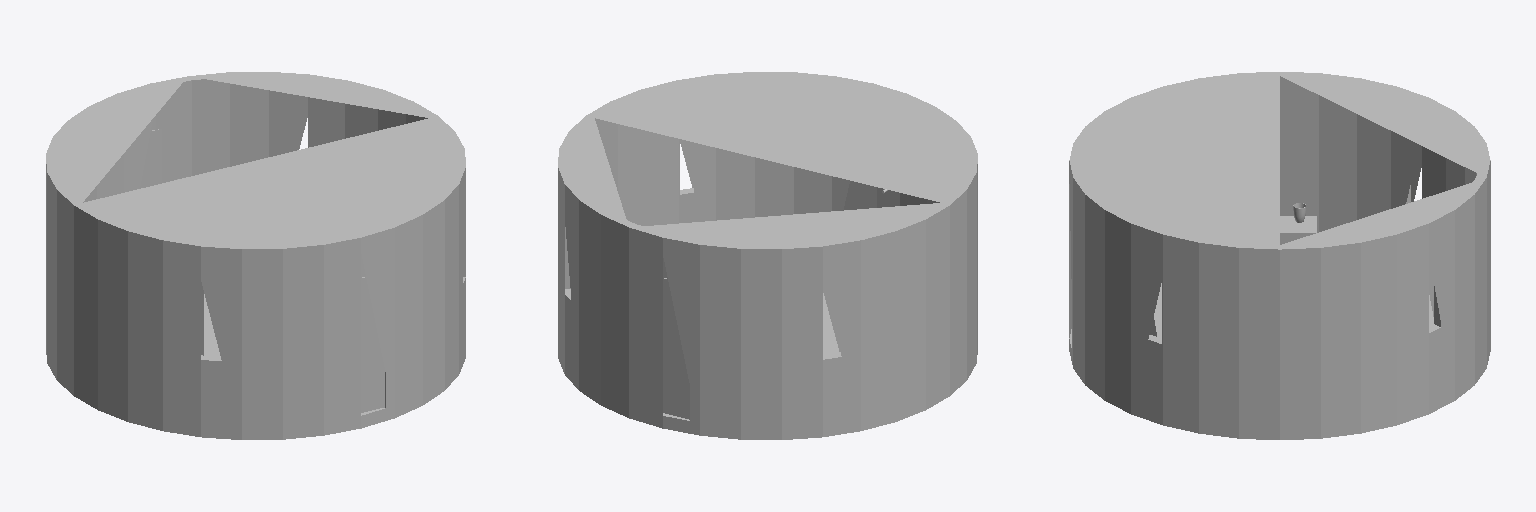
The model's file is Room.obj.
3 views of the same model, side by side, from view 1: azimuth 30°, elevation 25°; view 2: azimuth 150°, elevation 25°; view 3: azimuth 270°, elevation 25° (orthographic).
Parts seen in each view (by area): view 1: Walls_Cylinder.001, Cube.001_Cube.005, Cube_Cube.001, Floor_Cylinder.003; view 2: Walls_Cylinder.001, Cube_Cube.001, Cube.001_Cube.005, Floor_Cylinder.003; view 3: Walls_Cylinder.001, Cube.003_Cube.006.
Boxes of the visible parts, <box> form: Walls_Cylinder.001: <box>46,72,465,439</box>; Cube.001_Cube.005: <box>361,254,384,412</box>; Cube_Cube.001: <box>140,116,161,188</box>; Floor_Cylinder.003: <box>204,294,220,356</box>; Walls_Cylinder.001: <box>558,72,977,439</box>; Cube_Cube.001: <box>663,258,689,419</box>; Cube.001_Cube.005: <box>843,181,876,210</box>; Floor_Cylinder.003: <box>823,293,839,354</box>; Walls_Cylinder.001: <box>1069,72,1490,439</box>; Cube.003_Cube.006: <box>1280,216,1316,244</box>.
Bounding box in the file's own units: 8 × 4 × 8.